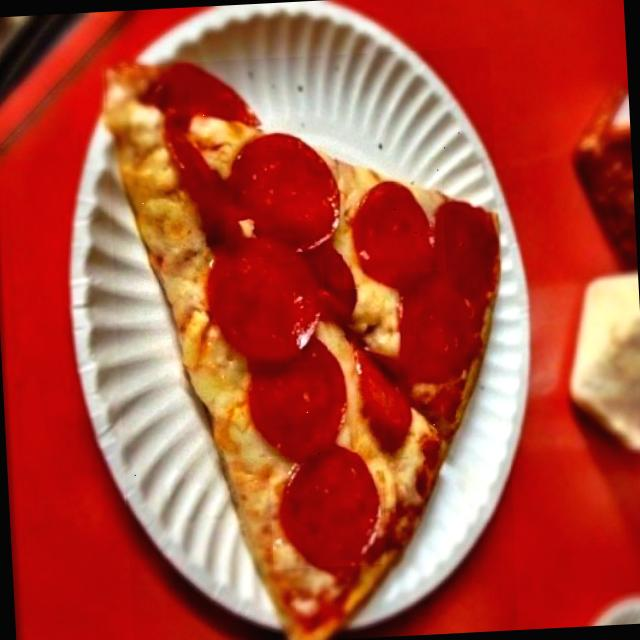pepperoni: (196, 238, 328, 370), (220, 126, 350, 258), (268, 441, 387, 569), (236, 333, 357, 457), (339, 180, 447, 288), (390, 268, 474, 382), (353, 334, 422, 458)
pizza: (106, 61, 500, 640)
